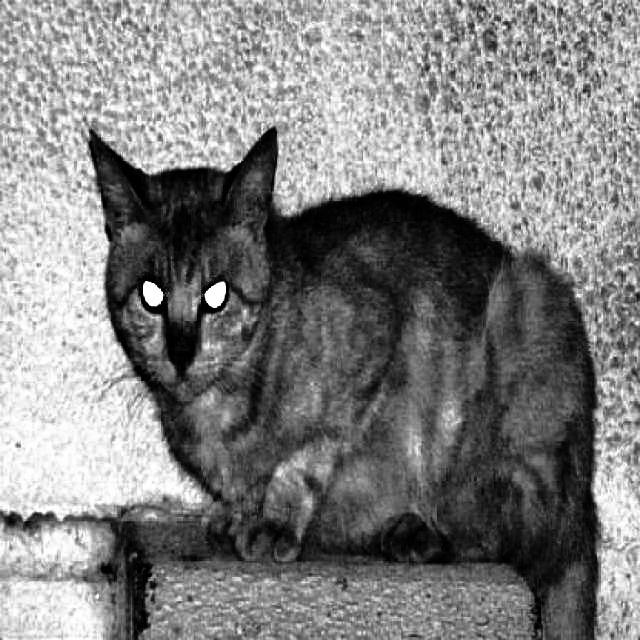Cat: (76, 118, 610, 581)
